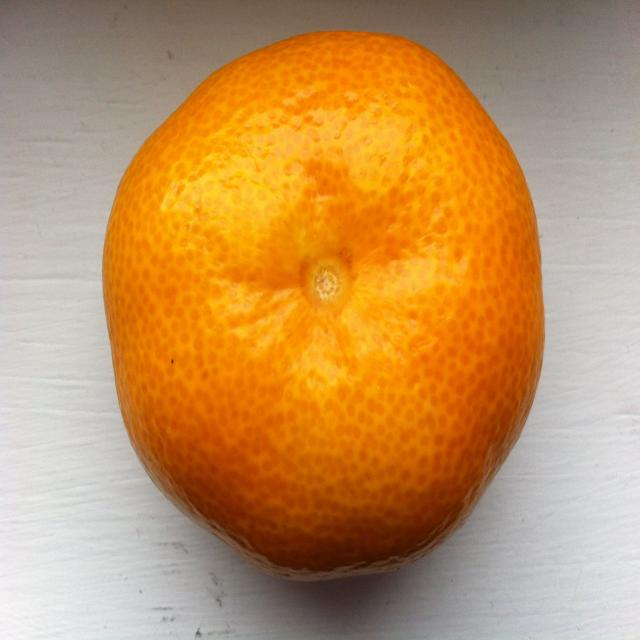Orange: (104, 36, 545, 579)
